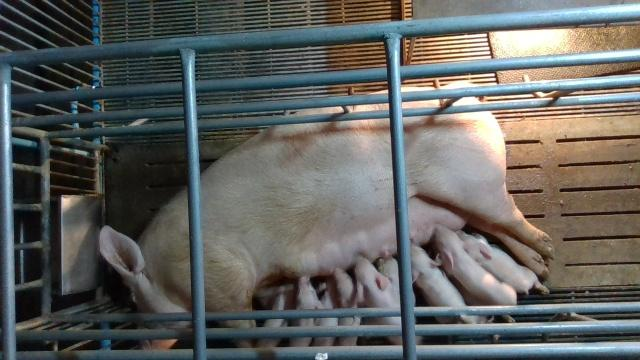piglet: (430, 225, 519, 323), (409, 240, 493, 323), (456, 230, 550, 295), (356, 256, 422, 344), (291, 276, 326, 348), (334, 268, 363, 345), (255, 294, 290, 348)
sow-sleep-lactate: (99, 82, 554, 350)
